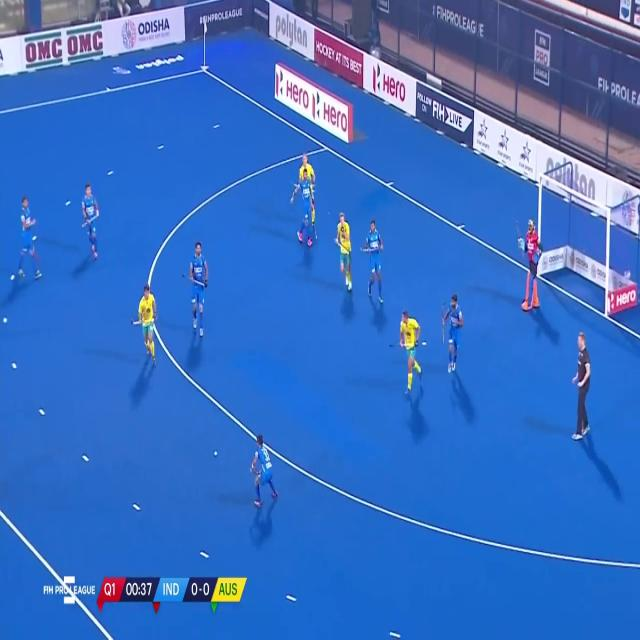ball: (212, 448, 219, 459)
